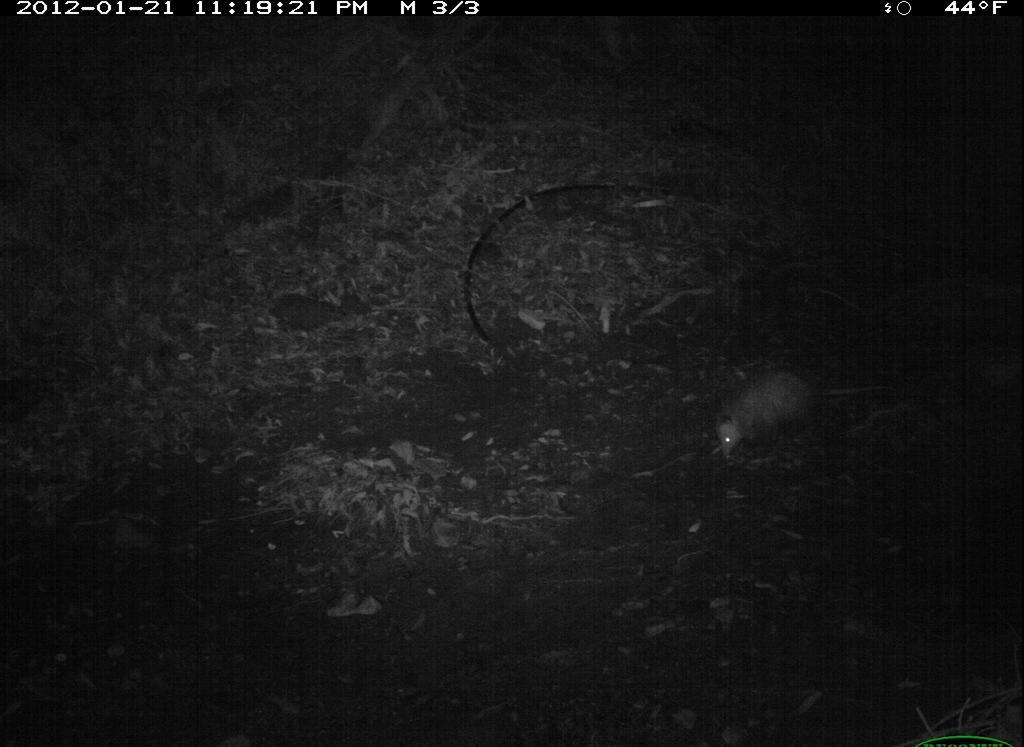opossum: (690, 359, 859, 495)
